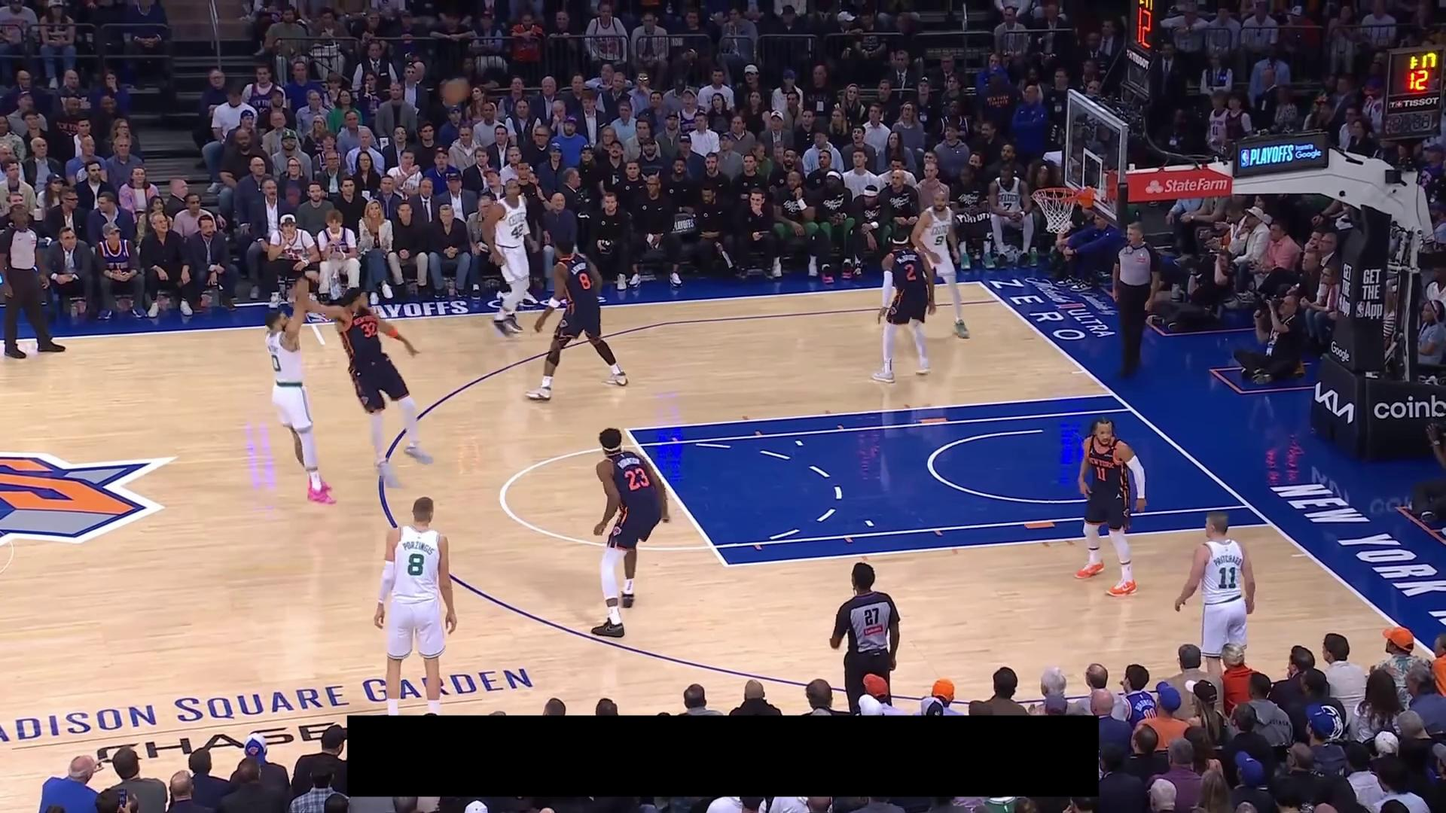ball: (441, 77, 471, 105)
number: (624, 467, 650, 491), (407, 553, 425, 577), (1219, 566, 1237, 589), (360, 320, 378, 338), (578, 272, 592, 291), (271, 354, 282, 373), (511, 223, 524, 239), (1095, 465, 1107, 482), (905, 263, 915, 282), (933, 234, 944, 247)
player: (373, 495, 459, 716), (588, 426, 673, 638), (523, 236, 629, 402), (1170, 510, 1260, 678), (1074, 416, 1149, 598), (871, 227, 938, 383), (909, 187, 972, 341), (480, 177, 539, 336)
player-jump-shot: (262, 279, 337, 506)
player-shot-block: (291, 279, 436, 490)
referee: (828, 560, 901, 714), (0, 203, 67, 358), (1110, 221, 1163, 378)
rim: (1032, 187, 1079, 202)
